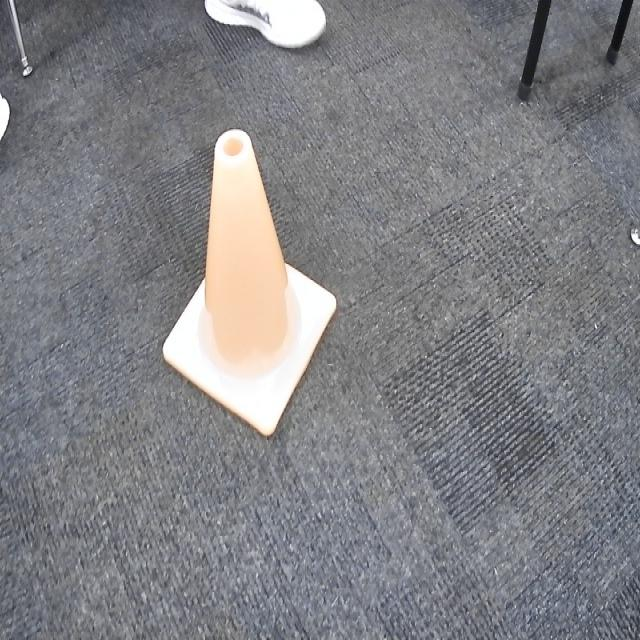cone: (159, 128, 338, 442)
